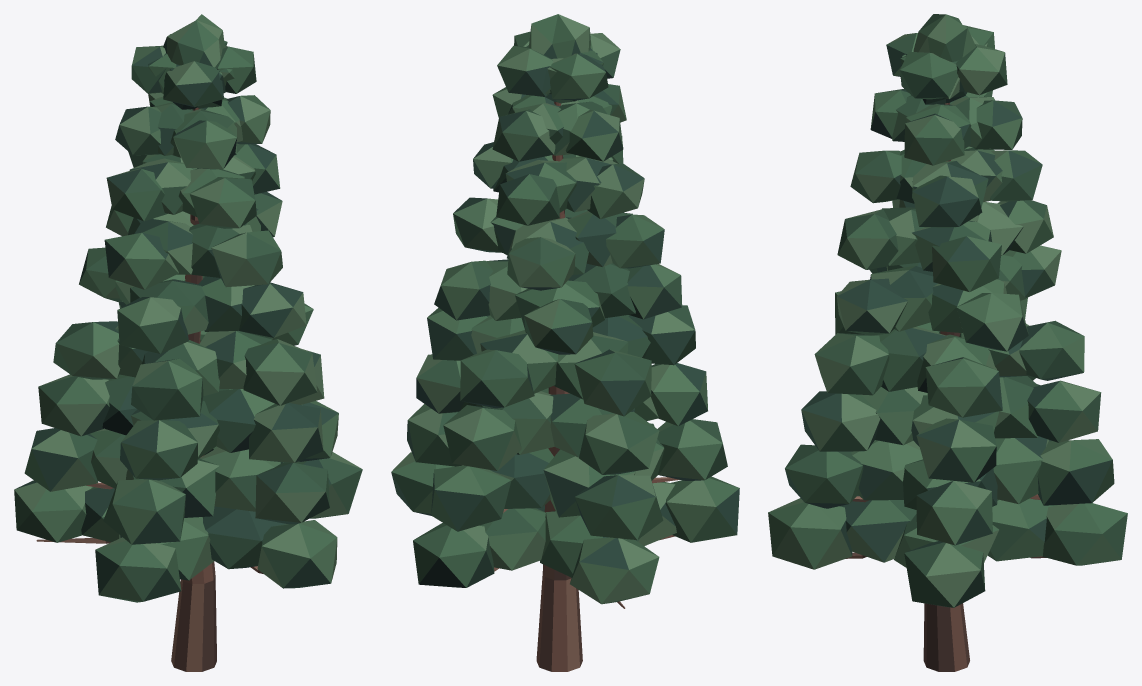
The model's file is cedar-lod.glb.
3 renders of one model, left to right at view 1: azimuth 30°, elevation 25°; view 2: azimuth 150°, elevation 25°; view 3: azimuth 270°, elevation 25°, orthographic.
Parts seen in each view (by area): view 1: Overlapping cedar sprays.001, Cedar trunk, exposed roots and bent fans.001; view 2: Overlapping cedar sprays.001, Cedar trunk, exposed roots and bent fans.001; view 3: Overlapping cedar sprays.001, Cedar trunk, exposed roots and bent fans.001.
Part boxes in pixels (bbox=[...]): Overlapping cedar sprays.001: bbox=[14, 14, 362, 602]; Cedar trunk, exposed roots and bent fans.001: bbox=[36, 107, 263, 671]; Overlapping cedar sprays.001: bbox=[391, 14, 739, 604]; Cedar trunk, exposed roots and bent fans.001: bbox=[494, 101, 679, 671]; Overlapping cedar sprays.001: bbox=[768, 14, 1127, 607]; Cedar trunk, exposed roots and bent fans.001: bbox=[845, 102, 1046, 671].
Size of the model in its own units: 4.36 by 9.1 by 4.57.
